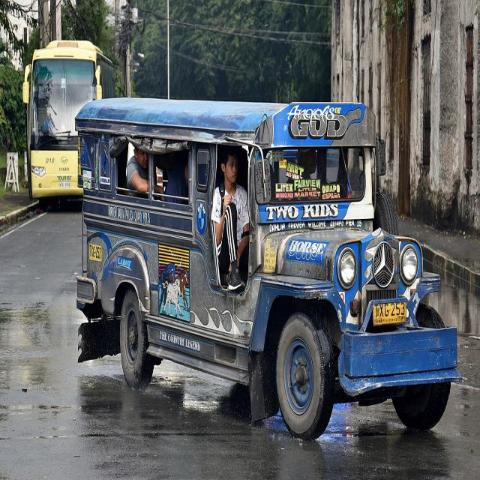bus: (23, 39, 116, 208)
jeepney: (75, 89, 462, 440)
